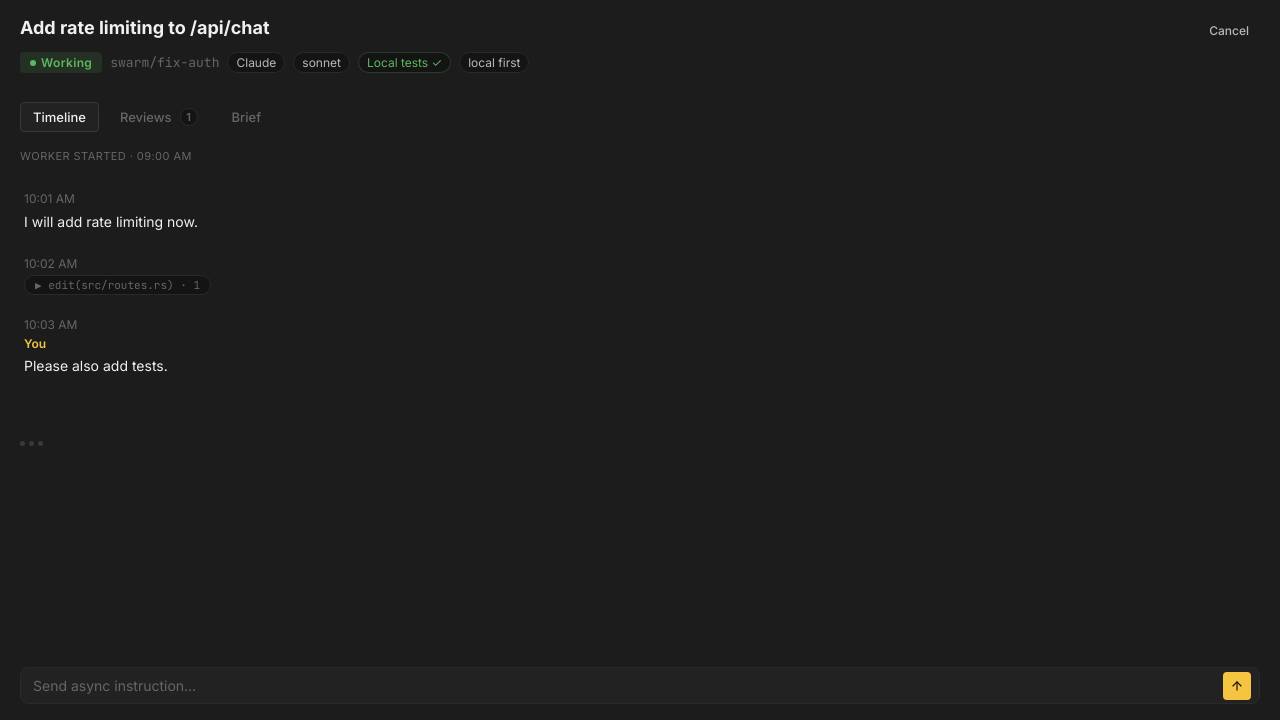
WorkerDetailV2 › renders approve verdict badge correctly
Expected: the element with test id "status-badge" is shown, [20, 52, 102, 73]
Click the tab "Reviews 1". click: (159, 117)
box: [107, 101, 211, 133]
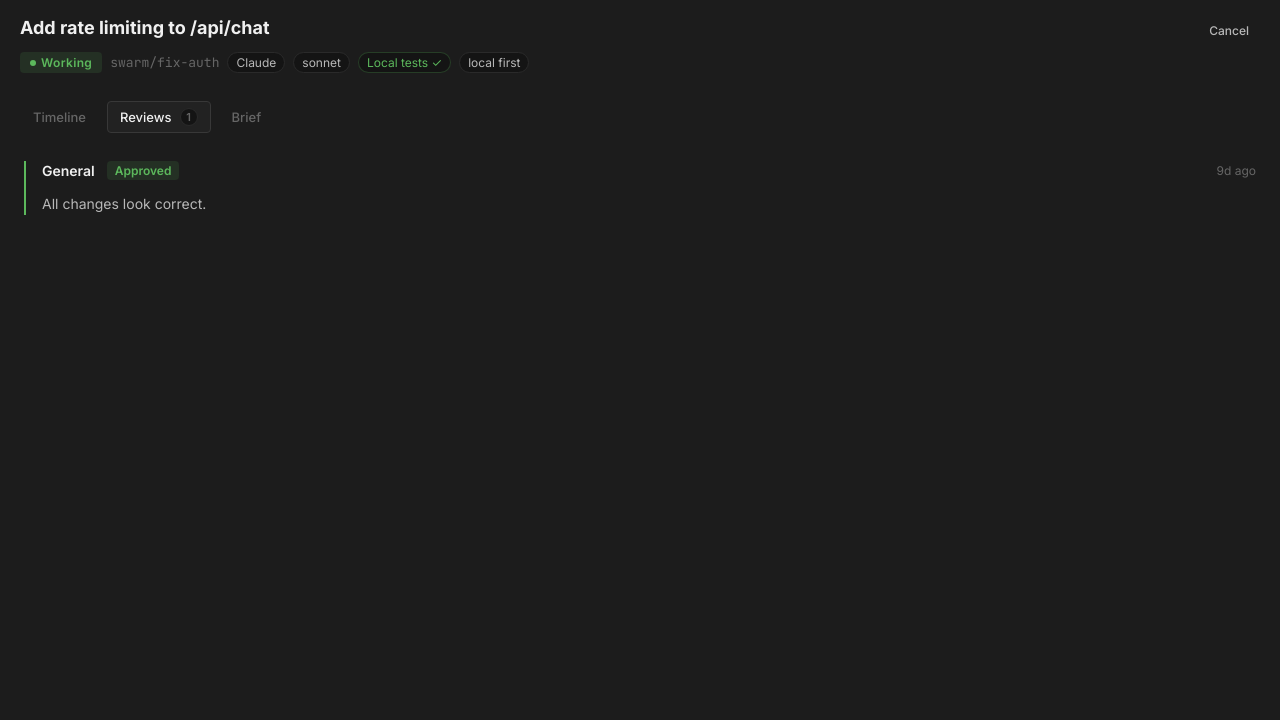
Expected: the element with test id "reviews-section" does not show "Sent to worker", [24, 161, 1256, 215]
Expected: the element with test id "reviews-section" shows "Approved", [115, 163, 172, 178]
